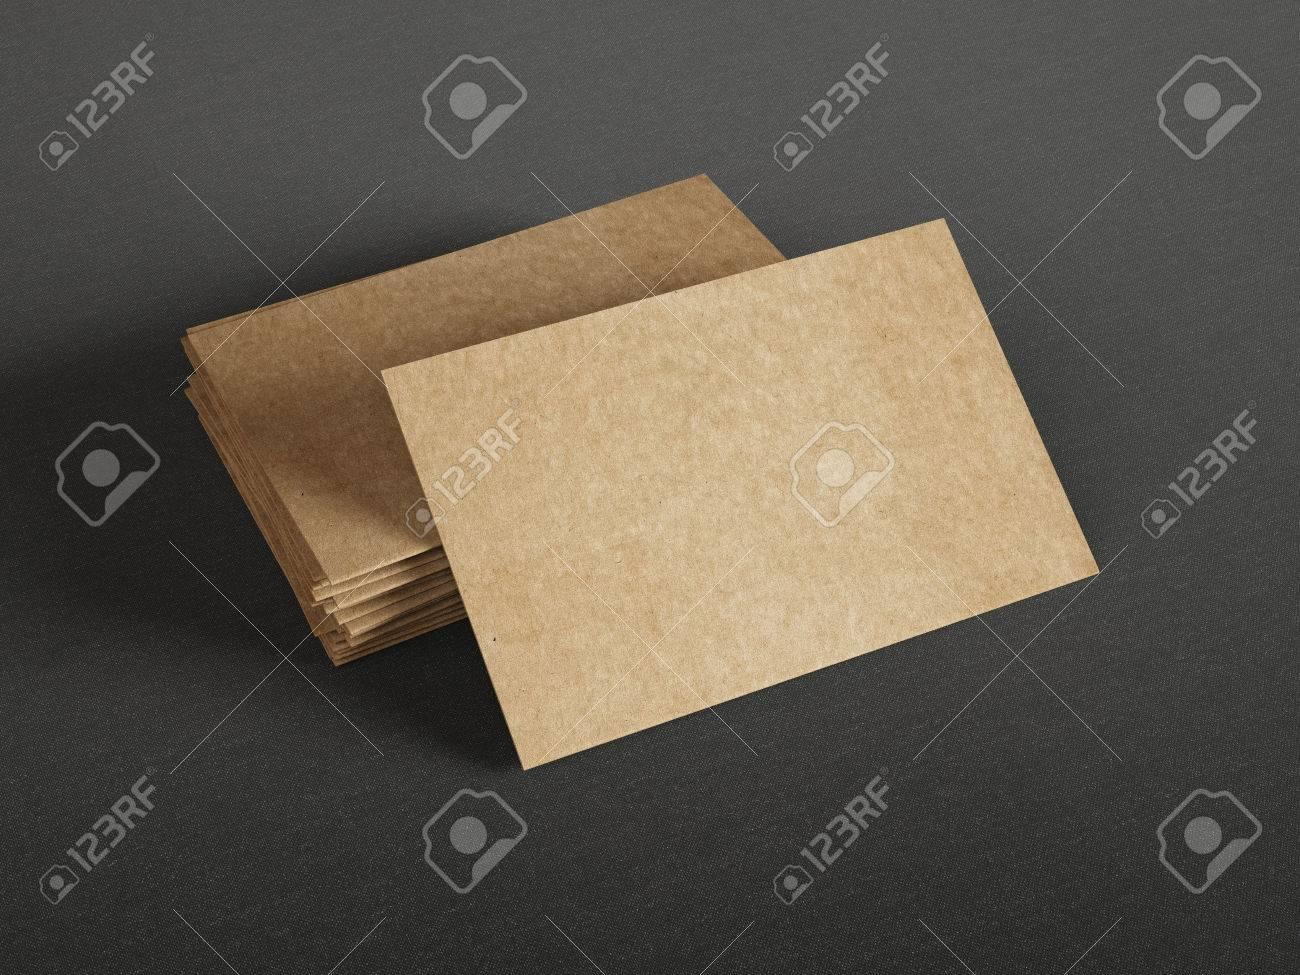plastic: (381, 174, 1098, 771), (164, 116, 861, 680)
